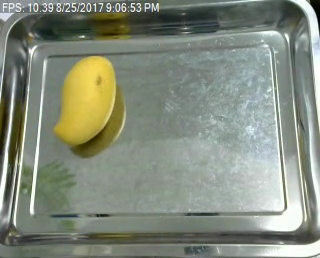Mango: (53, 51, 122, 145)
